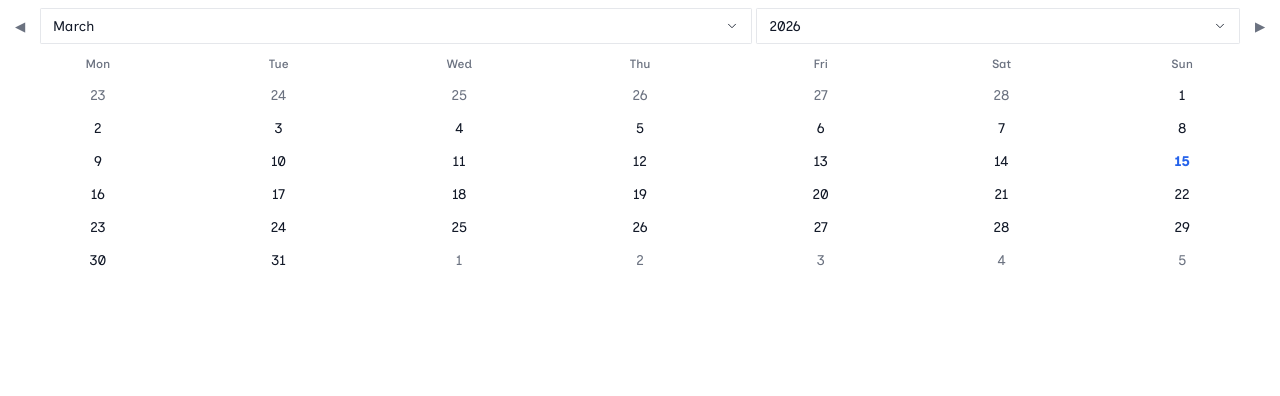
Calendar month/year dropdowns › navigates the grid when the month dropdown changes
This screenshot has width=1280, height=396.
Click the dropdown named "Month": (74, 26) x1=40 y1=8 x2=752 y2=44
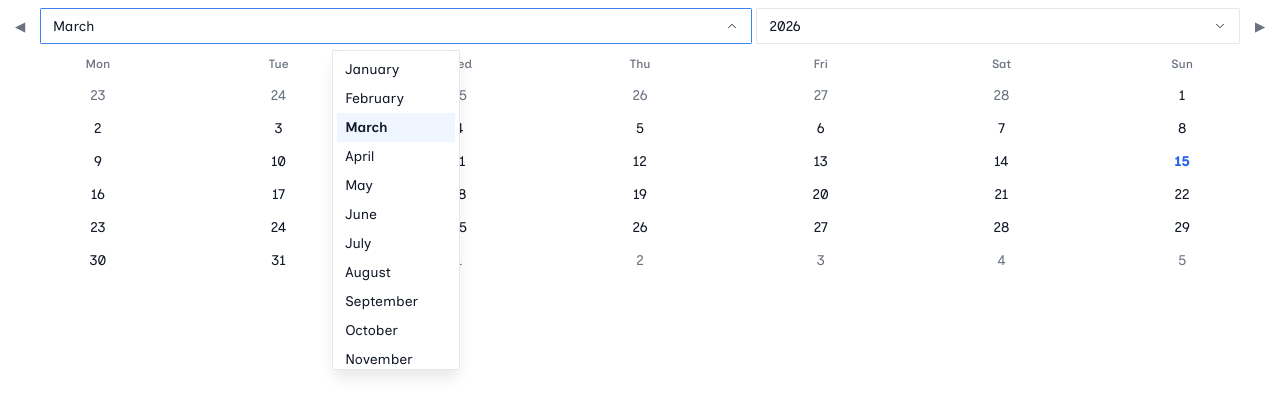
Click the option "June": (361, 214) x1=345 y1=206 x2=377 y2=223
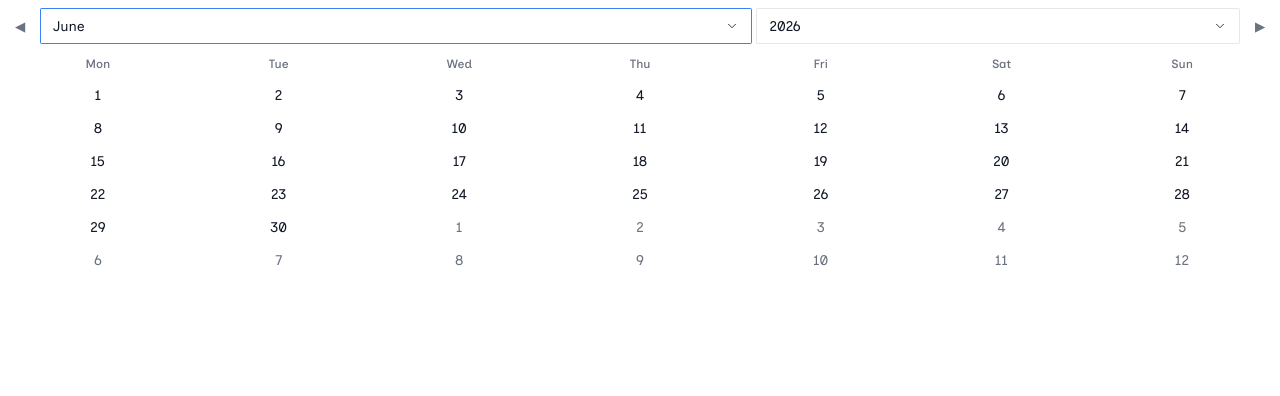
Expected: the dropdown named "Month" reads "June", x1=40 y1=8 x2=752 y2=44
